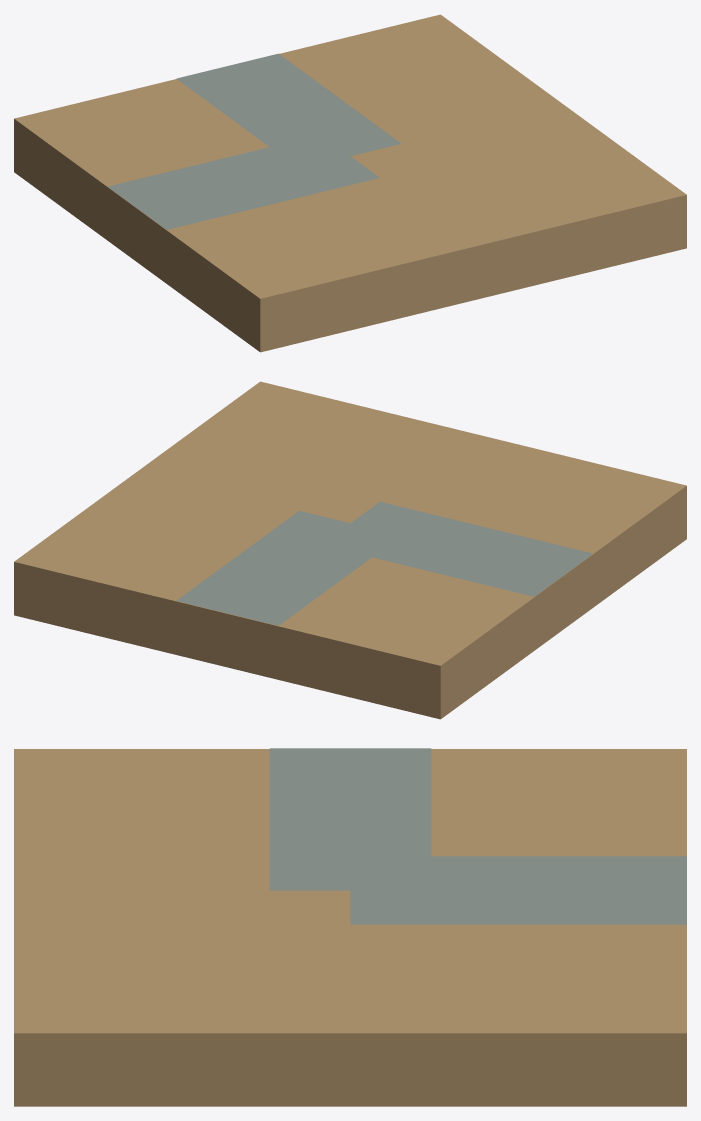
Rendered from road_corner.glb.
3 views of the same model, one above another, from view 1: azimuth 30°, elevation 25°; view 2: azimuth 150°, elevation 25°; view 3: azimuth 270°, elevation 25° (orthographic). The views are drawn at different scales.
Visible parts, largest first — view 1: road_corner; view 2: road_corner; view 3: road_corner.
Boxes of the visible parts, bbox=[...] form: road_corner: bbox=[14, 14, 686, 352]; road_corner: bbox=[14, 381, 686, 719]; road_corner: bbox=[14, 748, 686, 1106].
Size of the model in its own units: 1 by 0.121 by 1.
Materials: 1 (1 with a texture image).
